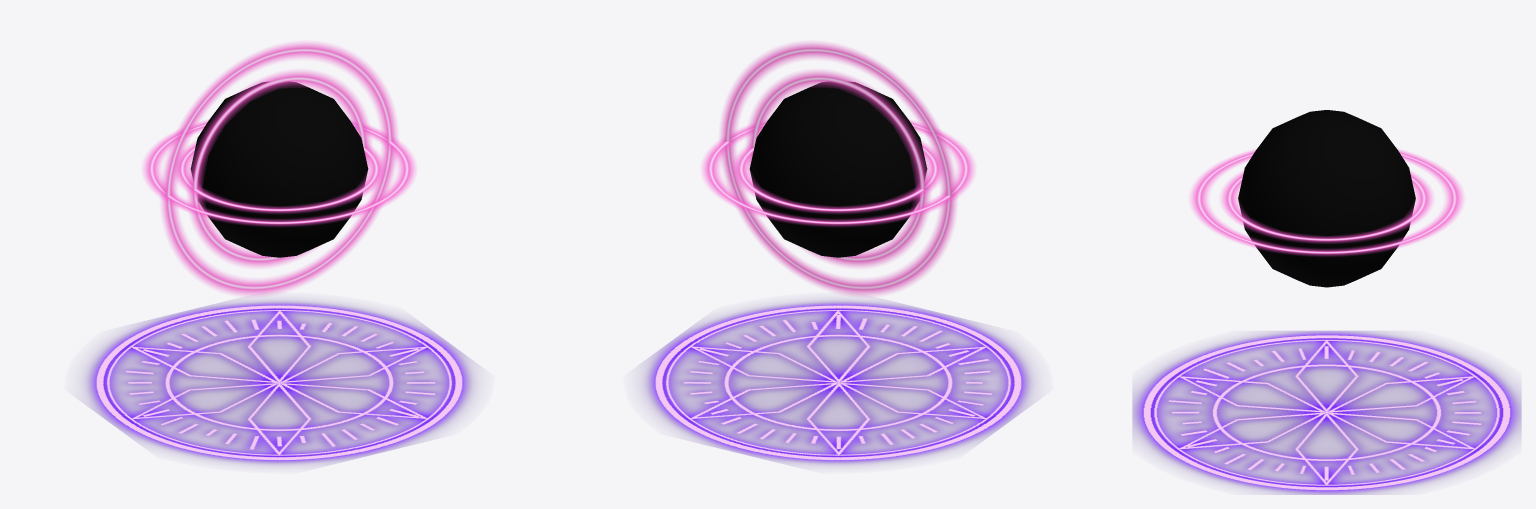
Rendered from fx_hole_max.glb.
3 renders of one model, left to right at view 1: azimuth 30°, elevation 25°; view 2: azimuth 150°, elevation 25°; view 3: azimuth 270°, elevation 25°, orthographic.
Parts seen in each view (by area): view 1: fx_hole_swirl, fx_hole_ring, fx_hole_void; view 2: fx_hole_swirl, fx_hole_ring, fx_hole_void; view 3: fx_hole_swirl, fx_hole_void, fx_hole_ring.
Boxes of the visible parts, left/top/right/bottom form: fx_hole_swirl: left=83, top=300, right=475, bottom=465; fx_hole_ring: left=143, top=42, right=415, bottom=295; fx_hole_void: left=190, top=82, right=368, bottom=257; fx_hole_swirl: left=642, top=300, right=1034, bottom=465; fx_hole_ring: left=702, top=42, right=974, bottom=295; fx_hole_void: left=749, top=82, right=927, bottom=257; fx_hole_swirl: left=1132, top=331, right=1521, bottom=494; fx_hole_void: left=1238, top=110, right=1415, bottom=287; fx_hole_ring: left=1190, top=149, right=1463, bottom=255.
Size of the model in its own units: 1.4 by 1.35 by 1.4.
Materials: 3 (2 with a texture image).
